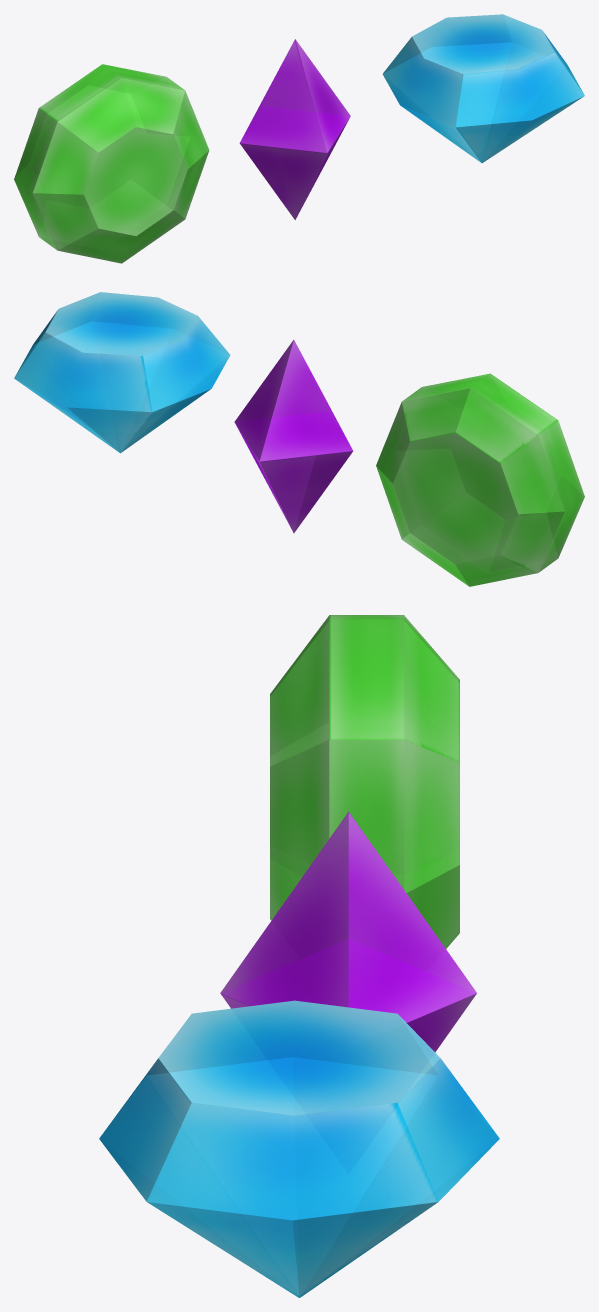
File: Gems.fbx
3 renders of one model, top to bottom at view 1: azimuth 30°, elevation 25°; view 2: azimuth 150°, elevation 25°; view 3: azimuth 270°, elevation 25°, orthographic. The views are drawn at different scales.
Parts seen in each view (by area): view 1: pCube1, pCube2, pPyramid3; view 2: pCube1, pCube2, pPyramid3; view 3: pCube2, pCube1, pPyramid3.
Part boxes in pixels (x1,y1,x2,y2): pCube1: (14,64,209,263); pCube2: (382,14,584,162); pPyramid3: (239,39,350,219); pCube1: (376,373,584,586); pCube2: (14,292,230,453); pPyramid3: (234,339,352,533); pCube2: (99,1000,499,1297); pCube1: (270,615,459,948); pPyramid3: (220,812,476,1052).
Bounding box in the file's own units: 12.16 × 4.2 × 4.02.
3 materials, 3 textured.
